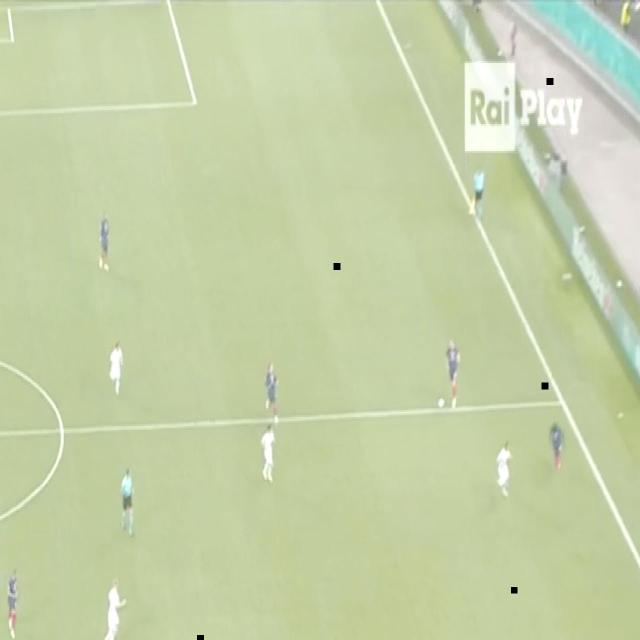ball: (436, 396, 446, 409)
player-white: (102, 572, 128, 640), (492, 440, 516, 502), (442, 334, 462, 408), (118, 462, 136, 540), (468, 164, 488, 226), (3, 564, 19, 640), (262, 359, 282, 418), (547, 414, 566, 476), (260, 422, 278, 485), (108, 338, 124, 400), (97, 206, 111, 272)
